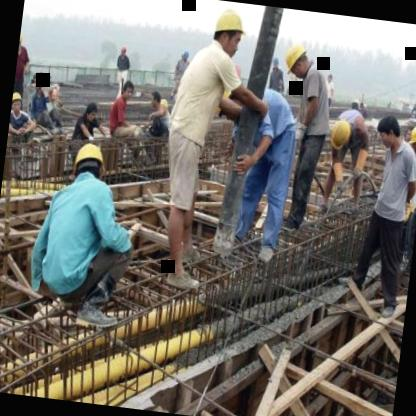head: (372, 110, 404, 152), (82, 100, 102, 124), (119, 78, 137, 102), (148, 86, 164, 110)
helmet: (208, 2, 249, 60), (70, 136, 110, 186), (279, 33, 313, 86), (326, 115, 356, 154), (30, 70, 48, 96), (10, 88, 27, 115), (405, 121, 416, 157), (17, 32, 25, 56)
